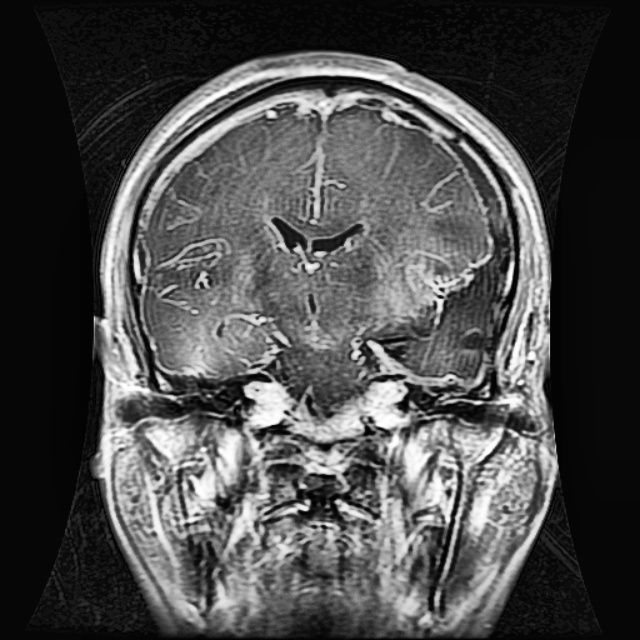Meningioma: (373, 220, 517, 380)
